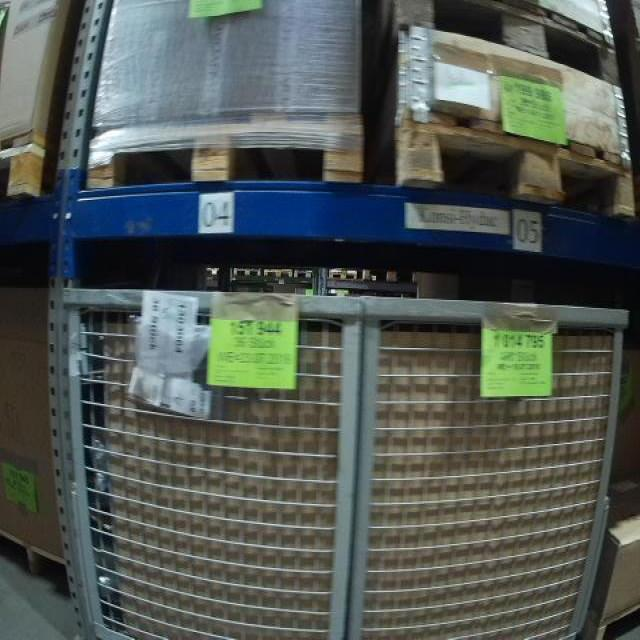pallet: (380, 114, 638, 218), (80, 114, 368, 188), (387, 0, 623, 90), (0, 129, 60, 204), (0, 531, 68, 596), (593, 607, 640, 640), (263, 266, 293, 281), (327, 267, 359, 281), (232, 268, 261, 279), (292, 269, 318, 280)
stillage: (55, 279, 365, 640), (346, 293, 633, 639)
